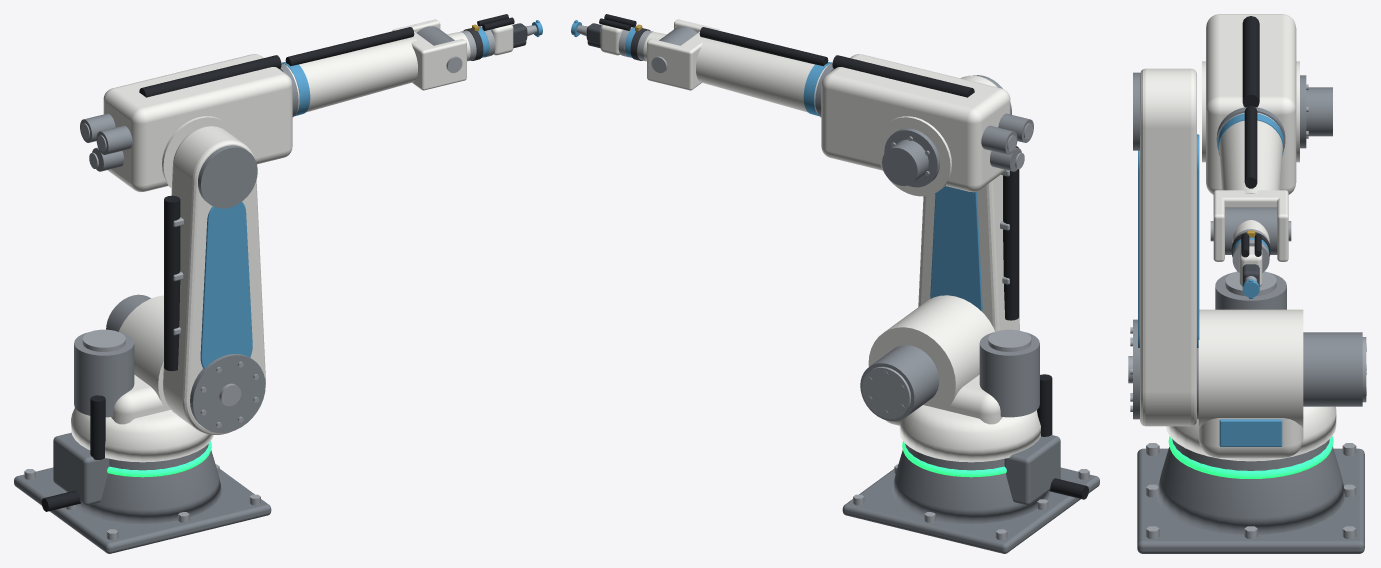
The model's file is robot_varnish.glb.
3 renders of one model, left to right at view 1: azimuth 30°, elevation 25°; view 2: azimuth 150°, elevation 25°; view 3: azimuth 270°, elevation 25°, orthographic. The views are drawn at different scales.
Visible parts, largest first — view 1: Pedestal_base, Link3_body, Link2_body, Link1_body, Link4_body, Link2_joint, Link2_accent, Link1_joint, Link2_hose, Link3_joint, Link3_hose, Link4_hose (+5 smaller); view 2: Link3_body, Pedestal_base, Link1_body, Link4_body, Link1_joint, Link2_accent, Link2_body, Link3_joint, Link1_steel, Link2_hose, Link3_hose, Link4_hose (+4 smaller); view 3: Link2_body, Pedestal_base, Link1_body, Link3_body, Link1_joint, Link4_body, Link3_joint, Link1_accent, Link3_hose, StatusRing, Pedestal_joint, Link5_joint (+11 smaller).
Boxes of the visible parts, x1=… form: Pedestal_base: x1=14, y1=432, x2=271, y2=553; Link3_body: x1=103, y1=54, x2=292, y2=192; Link2_body: x1=163, y1=126, x2=265, y2=434; Link1_body: x1=71, y1=295, x2=213, y2=462; Link4_body: x1=279, y1=19, x2=466, y2=113; Link2_joint: x1=190, y1=145, x2=265, y2=433; Link2_accent: x1=200, y1=202, x2=252, y2=368; Link1_joint: x1=74, y1=294, x2=150, y2=417; Link2_hose: x1=164, y1=195, x2=180, y2=371; Link3_joint: x1=80, y1=113, x2=132, y2=171; Link3_hose: x1=139, y1=55, x2=281, y2=97; Link4_hose: x1=285, y1=27, x2=414, y2=66; Link3_body: x1=821, y1=54, x2=1010, y2=196; Pedestal_base: x1=842, y1=435, x2=1099, y2=553; Link1_body: x1=868, y1=295, x2=1040, y2=462; Link4_body: x1=647, y1=19, x2=829, y2=113; Link1_joint: x1=860, y1=332, x2=1039, y2=421; Link2_accent: x1=930, y1=186, x2=982, y2=311; Link2_body: x1=918, y1=75, x2=1019, y2=331; Link3_joint: x1=882, y1=113, x2=1033, y2=187; Link1_steel: x1=862, y1=329, x2=1031, y2=418; Link2_hose: x1=1003, y1=146, x2=1019, y2=320; Link3_hose: x1=832, y1=55, x2=974, y2=97; Link4_hose: x1=699, y1=27, x2=828, y2=66; Link2_body: x1=1140, y1=68, x2=1196, y2=426; Pedestal_base: x1=1137, y1=446, x2=1364, y2=553; Link1_body: x1=1166, y1=309, x2=1336, y2=461; Link3_body: x1=1202, y1=14, x2=1299, y2=194; Link1_joint: x1=1215, y1=272, x2=1362, y2=406; Link4_body: x1=1213, y1=113, x2=1288, y2=261; Link3_joint: x1=1300, y1=75, x2=1332, y2=148; Link1_accent: x1=1219, y1=419, x2=1282, y2=446; Link3_hose: x1=1242, y1=16, x2=1259, y2=107; StatusRing: x1=1168, y1=436, x2=1333, y2=478; Pedestal_joint: x1=1172, y1=439, x2=1329, y2=470; Link5_joint: x1=1225, y1=207, x2=1277, y2=254.
Bounding box in the file's own units: 2.43 × 1.91 × 0.8388.
